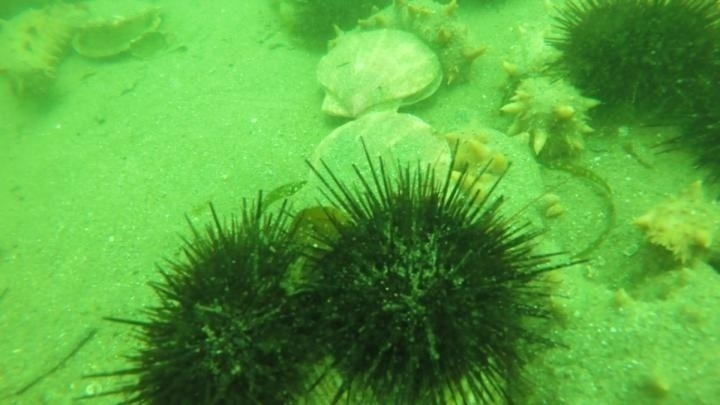echinus: (285, 144, 568, 405), (111, 193, 351, 405), (545, 0, 720, 163), (649, 3, 720, 186), (666, 77, 720, 188), (284, 0, 385, 55)
holothurian: (424, 160, 719, 405), (430, 117, 663, 327), (498, 258, 720, 403), (496, 18, 601, 165), (360, 0, 488, 91), (630, 178, 720, 272), (0, 5, 79, 106), (355, 0, 471, 53)
scallop: (434, 124, 617, 274), (304, 110, 458, 215), (314, 26, 445, 124), (66, 2, 167, 64)
starfish: (433, 124, 617, 275)
